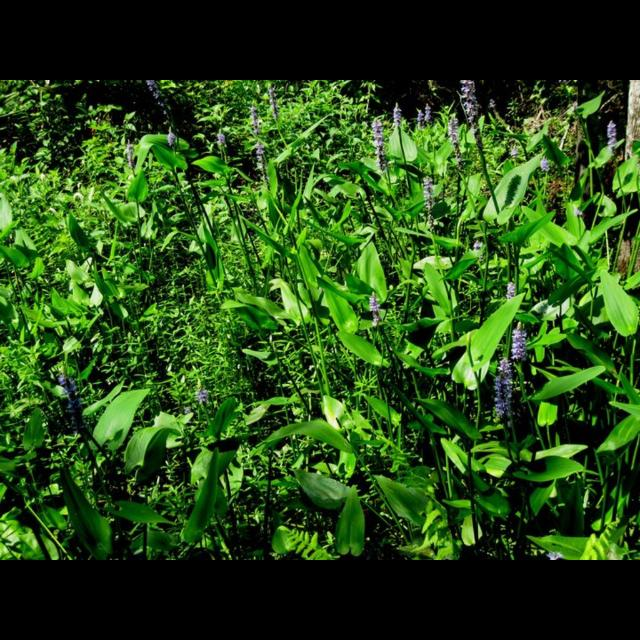Flower: (489, 348, 526, 436), (459, 80, 478, 128), (146, 81, 172, 115), (370, 117, 384, 165), (60, 374, 78, 411), (421, 172, 434, 220), (512, 320, 526, 362), (252, 103, 262, 159), (607, 120, 623, 152), (266, 86, 280, 120), (368, 287, 380, 323), (124, 142, 134, 176), (540, 545, 558, 559), (450, 114, 458, 144), (197, 381, 206, 404), (538, 155, 548, 175), (394, 102, 402, 125), (216, 128, 224, 146), (470, 241, 480, 255), (184, 404, 192, 420), (573, 205, 583, 217), (508, 144, 516, 158), (168, 130, 174, 146), (506, 280, 512, 296), (416, 107, 422, 121), (428, 103, 428, 123)
